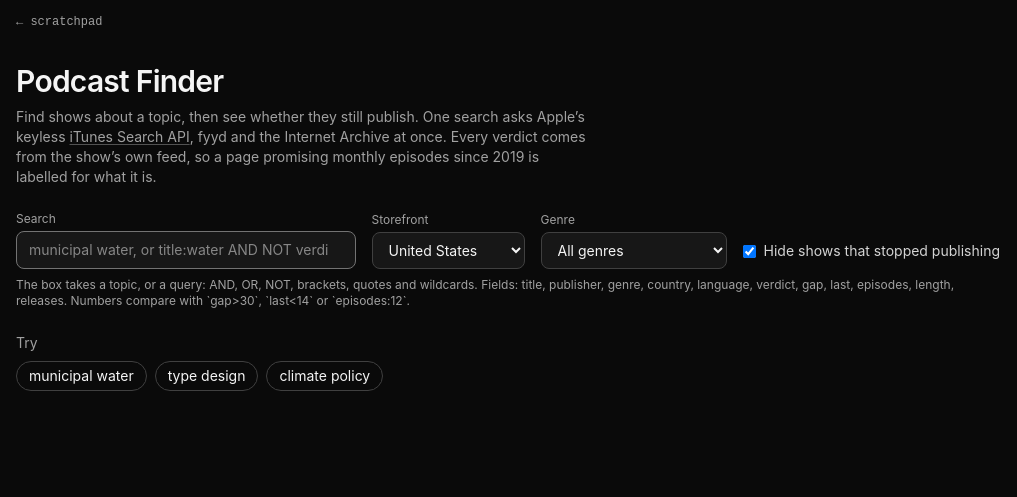
it: PodcastFinderPage › hides dormant and dead shows by default and says how many
Step 1. Type "drains" into the search field labelled "Search" → (186, 250), box [16,231,356,269]
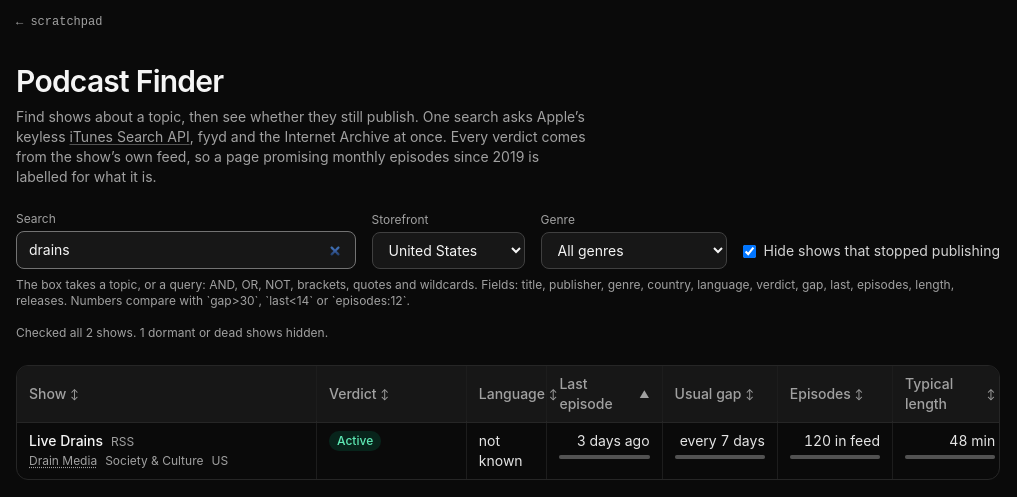
Result: the link "Live Drains" is shown at [29,431,103,451]
Result: the text "Checked all 2 shows. 1 dormant or dead shows hidden." is shown at [16,325,328,340]
